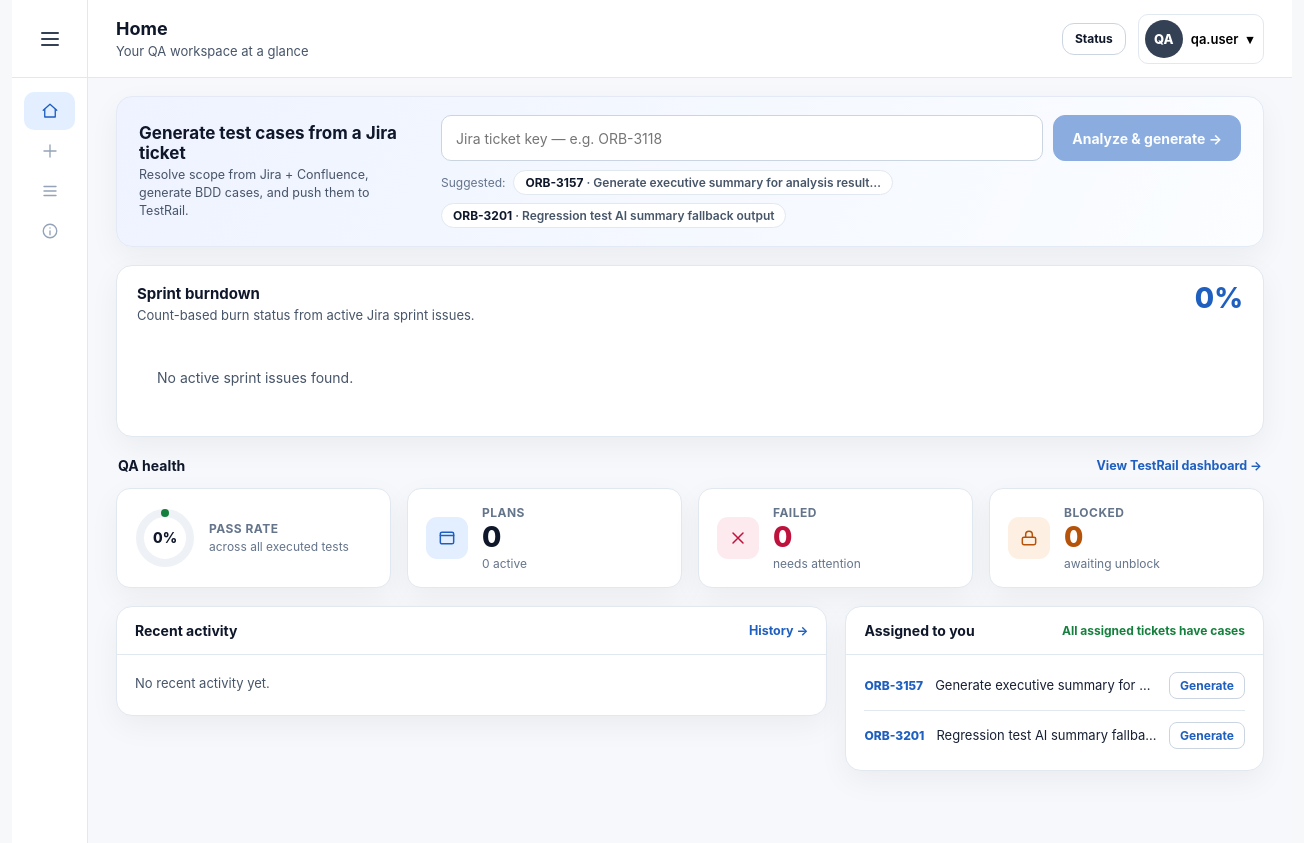
App utility UI › shows assigned ticket suggestions and fills the jira key when one is selected
Click the tab named "Generate" at point(50, 151), box [24,132,75,170]
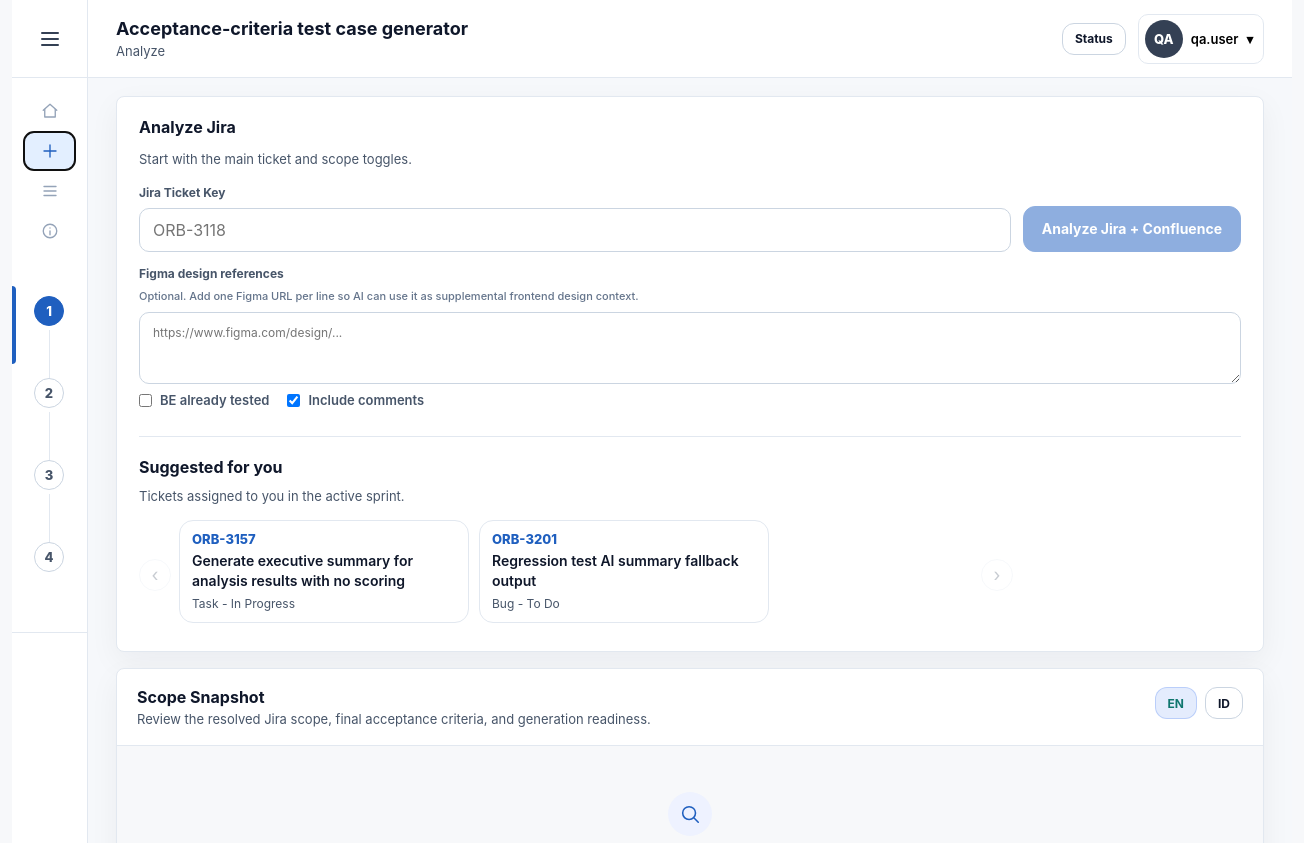
Expected: the heading "Suggested for you" is shown, [139,457,282,477]
Expected: the text "Tickets assigned to you in the active sprint." is shown, [139,488,405,504]
Click the button "ORB-3157" at point(324, 572), box [179,520,469,624]
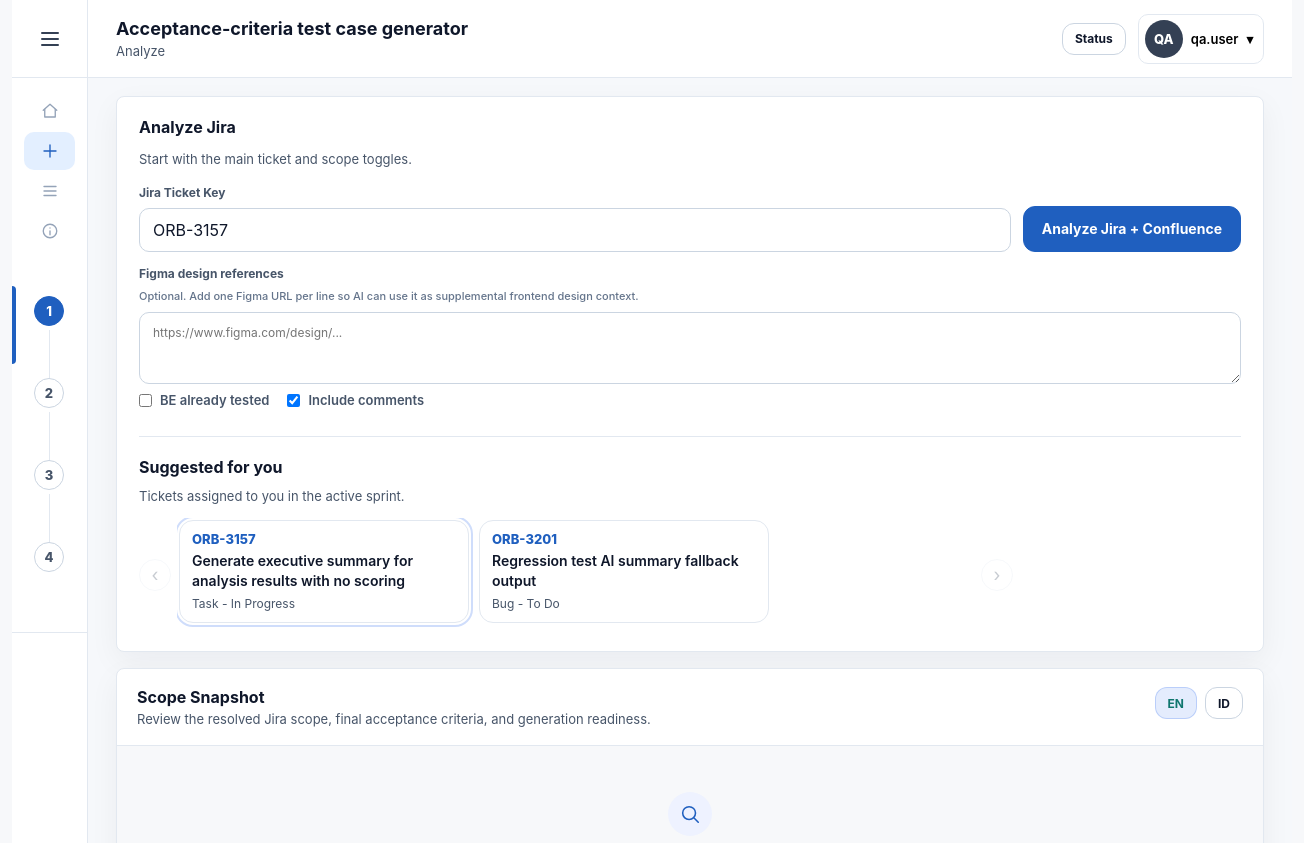
Expected: the field labelled "Jira Ticket Key" holds "ORB-3157", [139,208,1011,252]
